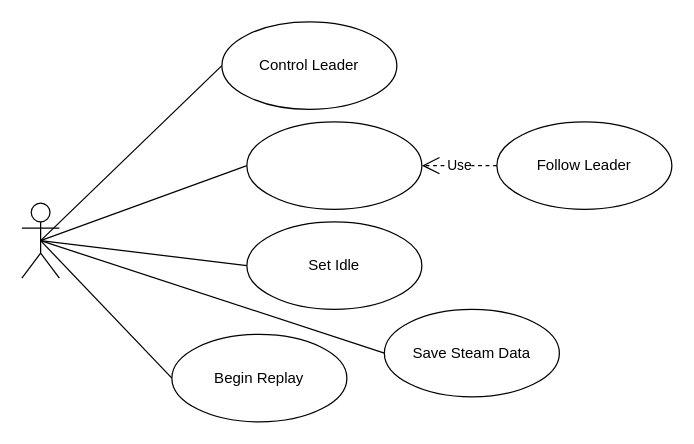
Image size: 694x444. Some labels were removed from this diagram. The shapes that lost their labels are listed below. From the top down, each one's box as (x1, y1, x2, y2) in pixels, then its label:
(246, 121, 422, 209): Set Follower
(21, 202, 59, 278): Pilot
